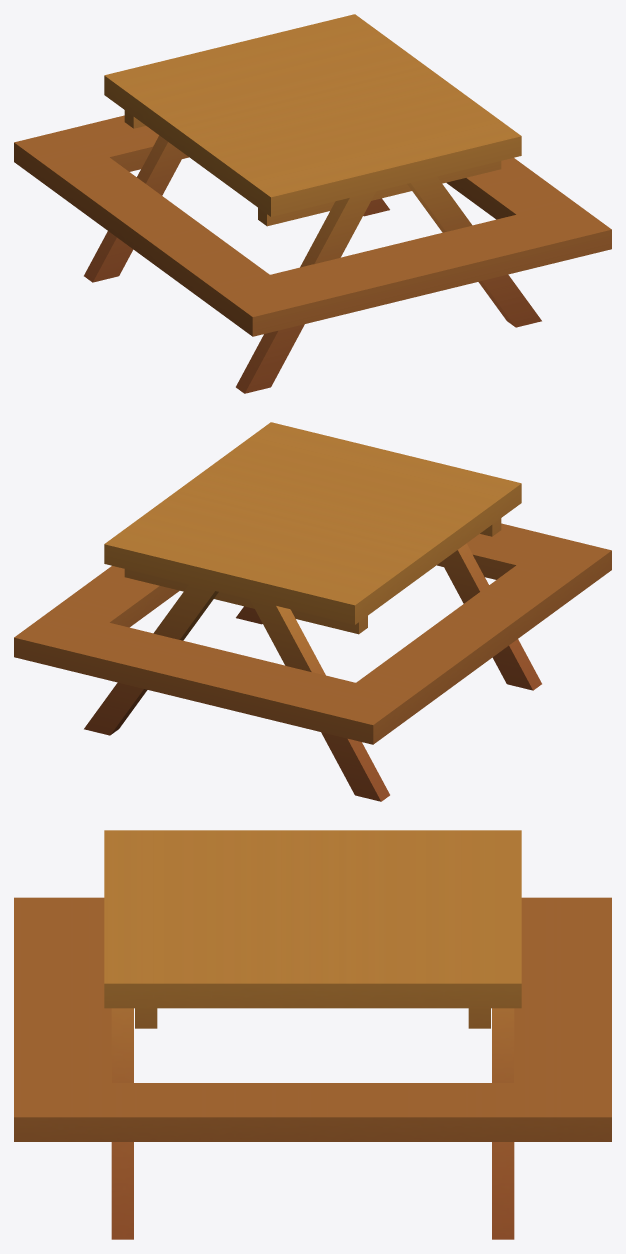
The model's file is Chair.fbx.
3 views of the same model, one above another, from view 1: azimuth 30°, elevation 25°; view 2: azimuth 150°, elevation 25°; view 3: azimuth 270°, elevation 25° (orthographic). The views are drawn at different scales.
Visible parts, largest first — view 1: Chair; view 2: Chair; view 3: Chair.
Boxes of the visible parts, x1=… form: Chair: x1=14, y1=14, x2=611, y2=393; Chair: x1=14, y1=422, x2=611, y2=801; Chair: x1=14, y1=830, x2=611, y2=1239.
Bounding box in the file's own units: 163 × 83.82 × 188.
1 material, 1 textured.
